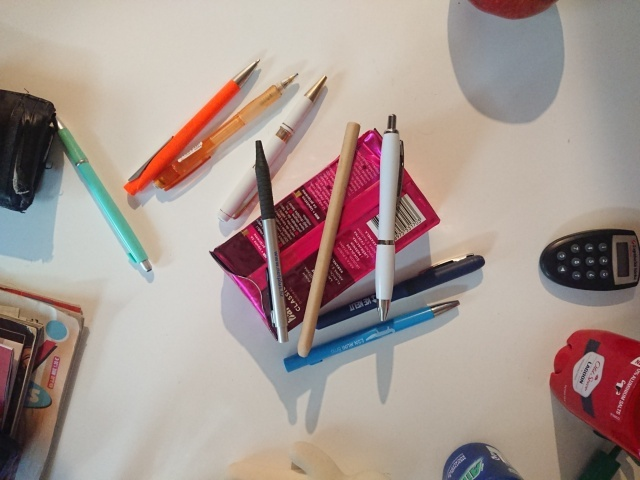Barcaffe Classic Original 225g: (206, 124, 445, 345)
